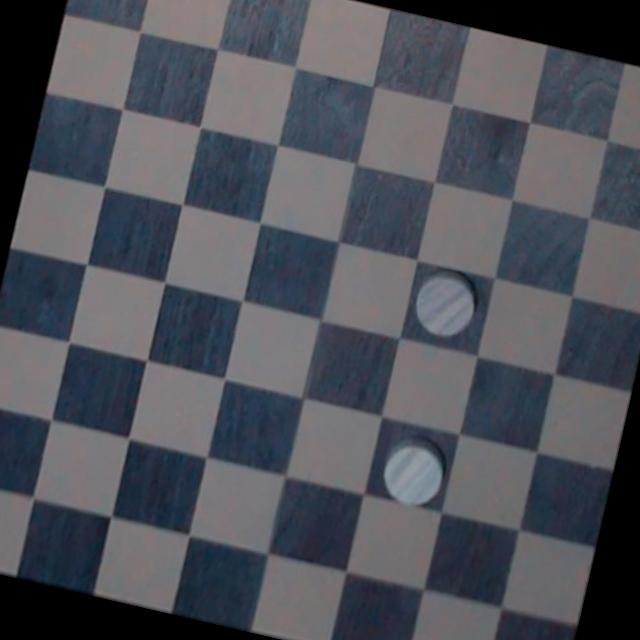BOARD: (0, 0, 640, 640)
white: (368, 425, 462, 528), (402, 259, 489, 348)
